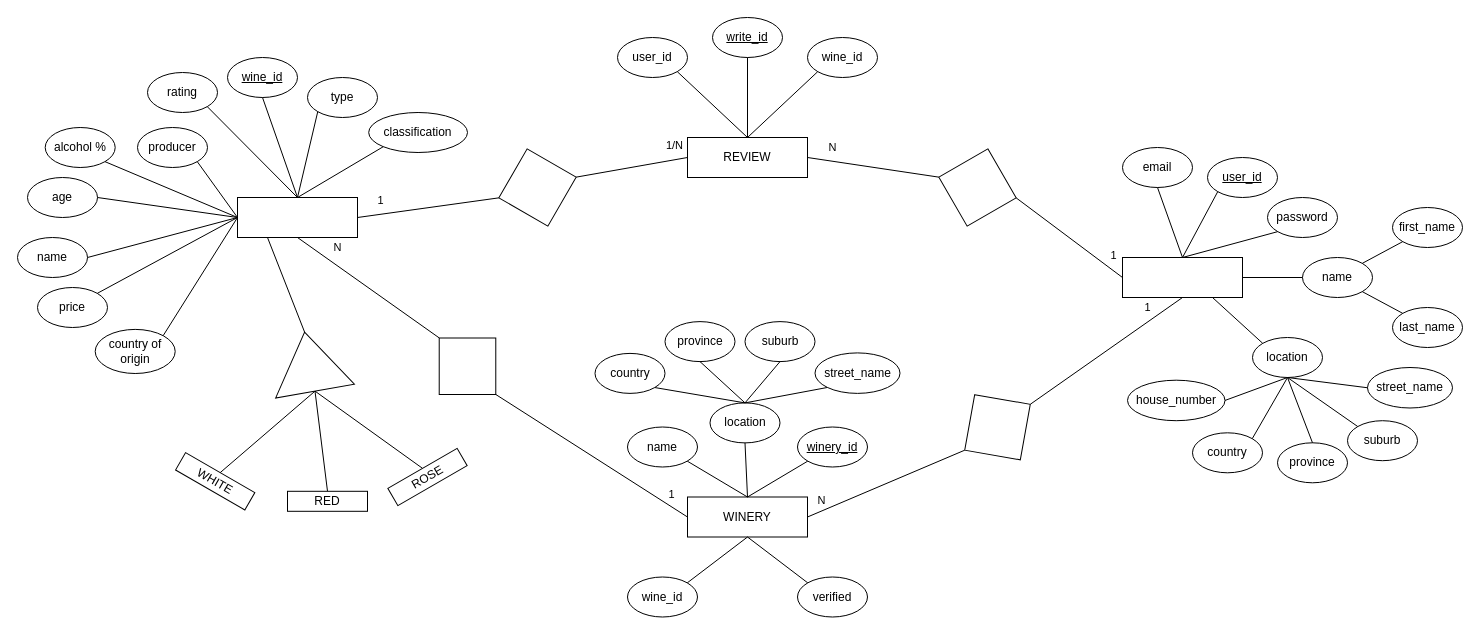
Some shapes in this 1480 by 635 pixel diagram are drawn without their labels. The shapes that lost their labels are listed below. From the top down, each one's centre as x and y in pixels, then its label:
At (x=537, y=187): "rate".
At (x=977, y=187): "write".
At (x=297, y=217): "WINE".
At (x=1182, y=277): "USER".
At (x=309, y=361): "IS".
At (x=467, y=365): "has".
At (x=997, y=426): "view".
